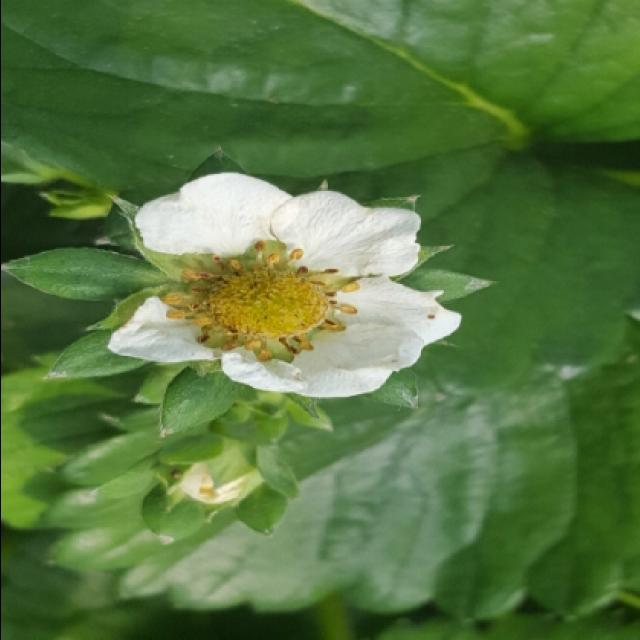Blossom Blight: (159, 237, 364, 365)
